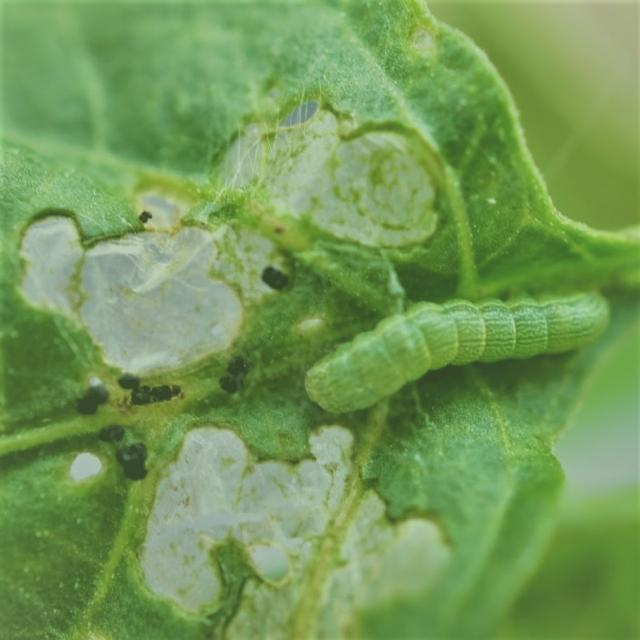armyworm: (303, 289, 611, 415)
